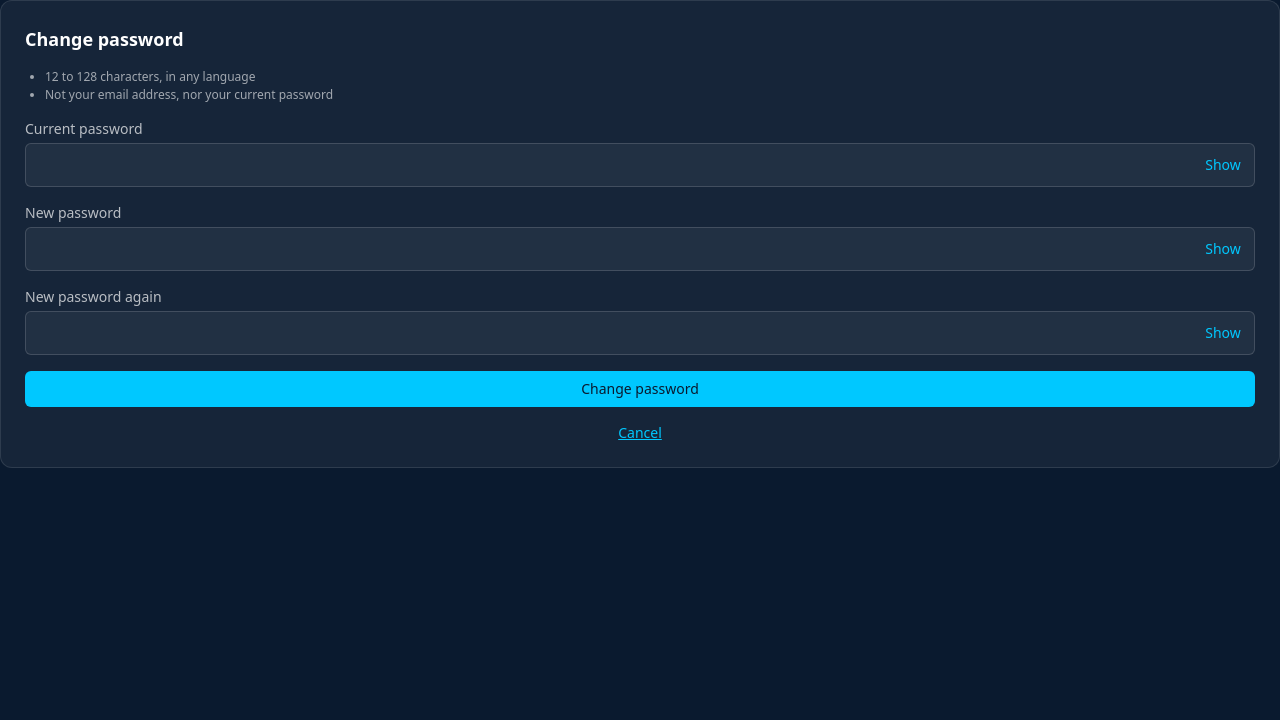
Test case: ChangePasswordForm › lists every rule the new password breaks
Expected: the list named "Password rules" is shown, [45,68,333,103]
Type "Sup3rSecret!" into the password field labelled "Current password" at [640, 165], box [25,143,1255,187]
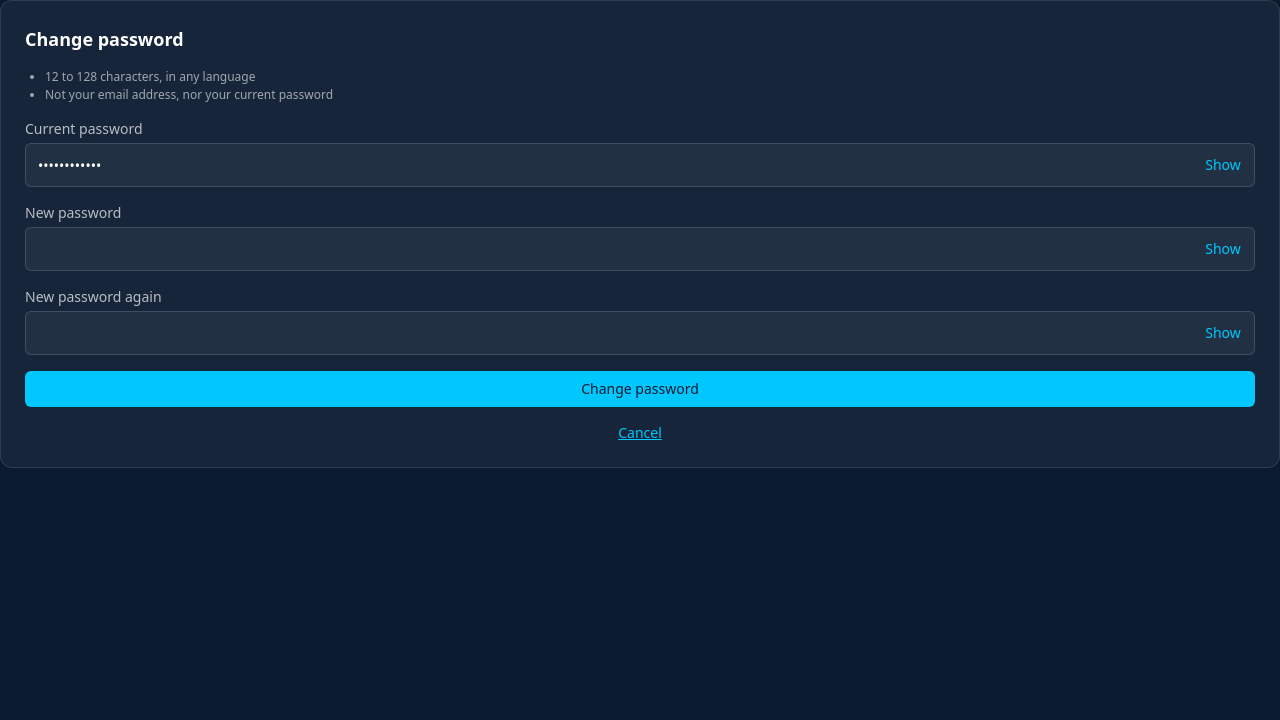
Type "short" into the password field labelled "New password" at [640, 249], box [25,227,1255,271]
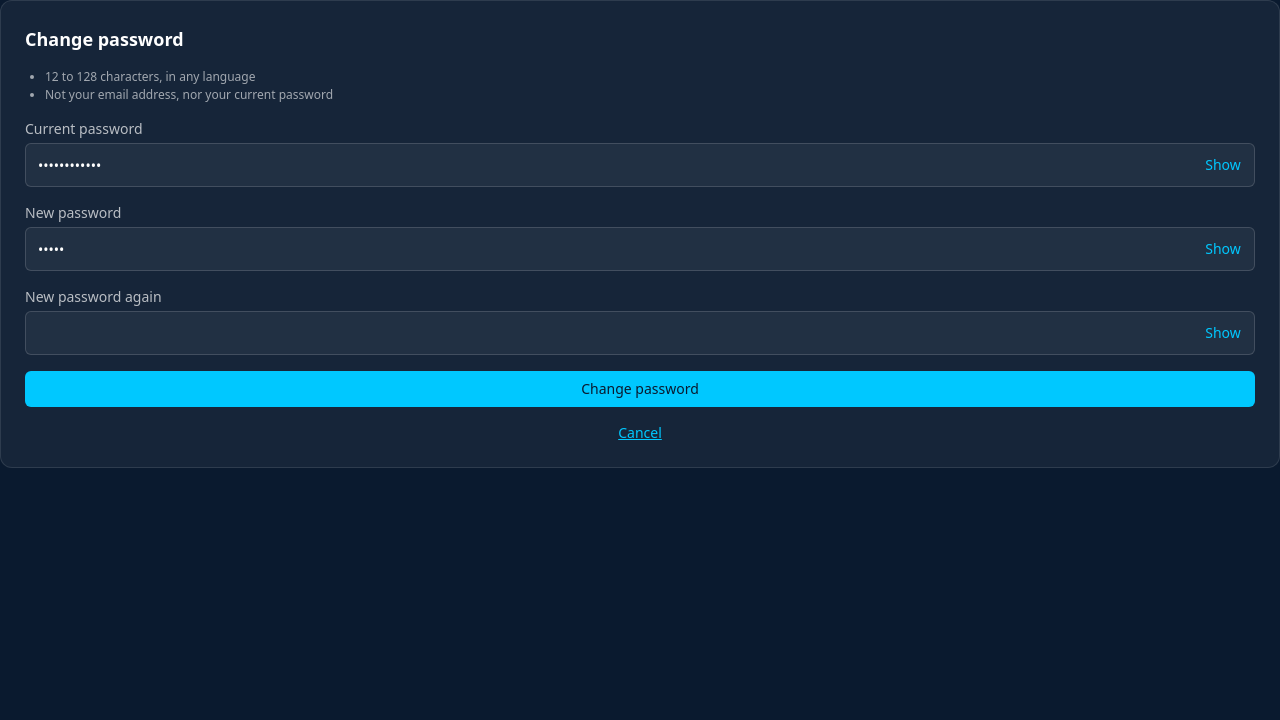
Type "short" into the password field labelled "New password again" at [640, 333], box [25,311,1255,355]
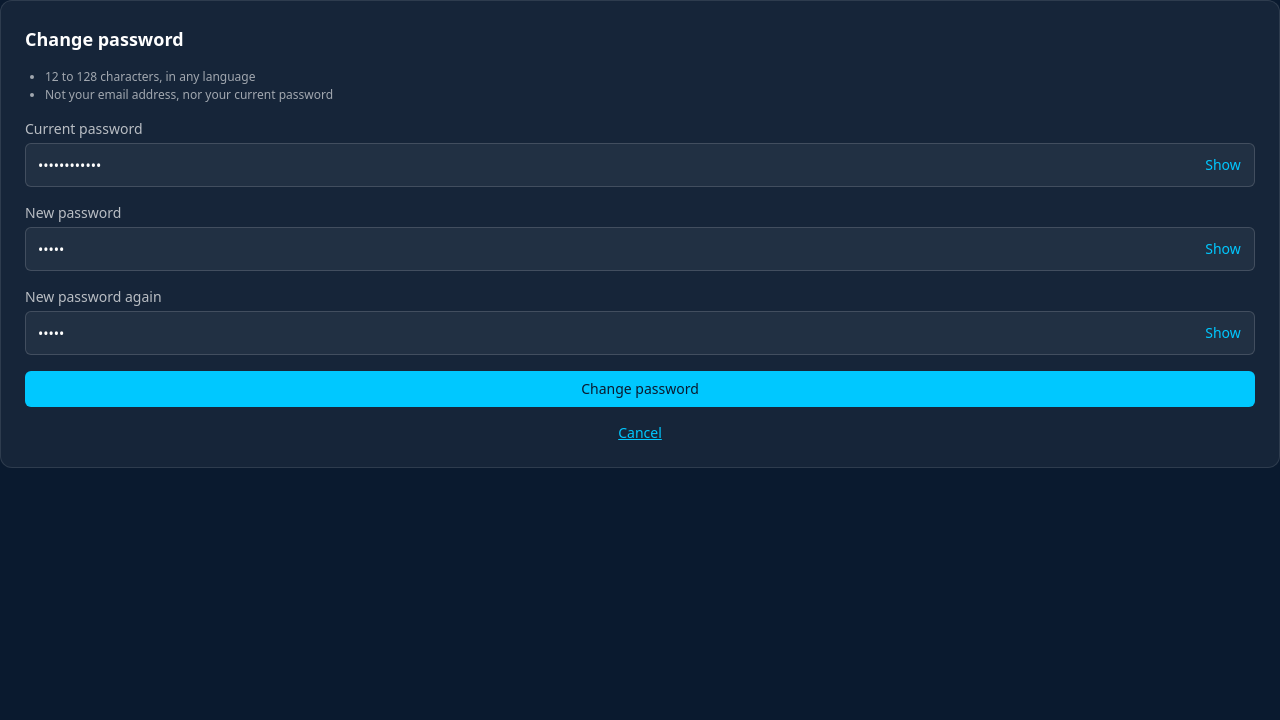
Click the button "Change password" at [640, 389], box [25,371,1255,407]
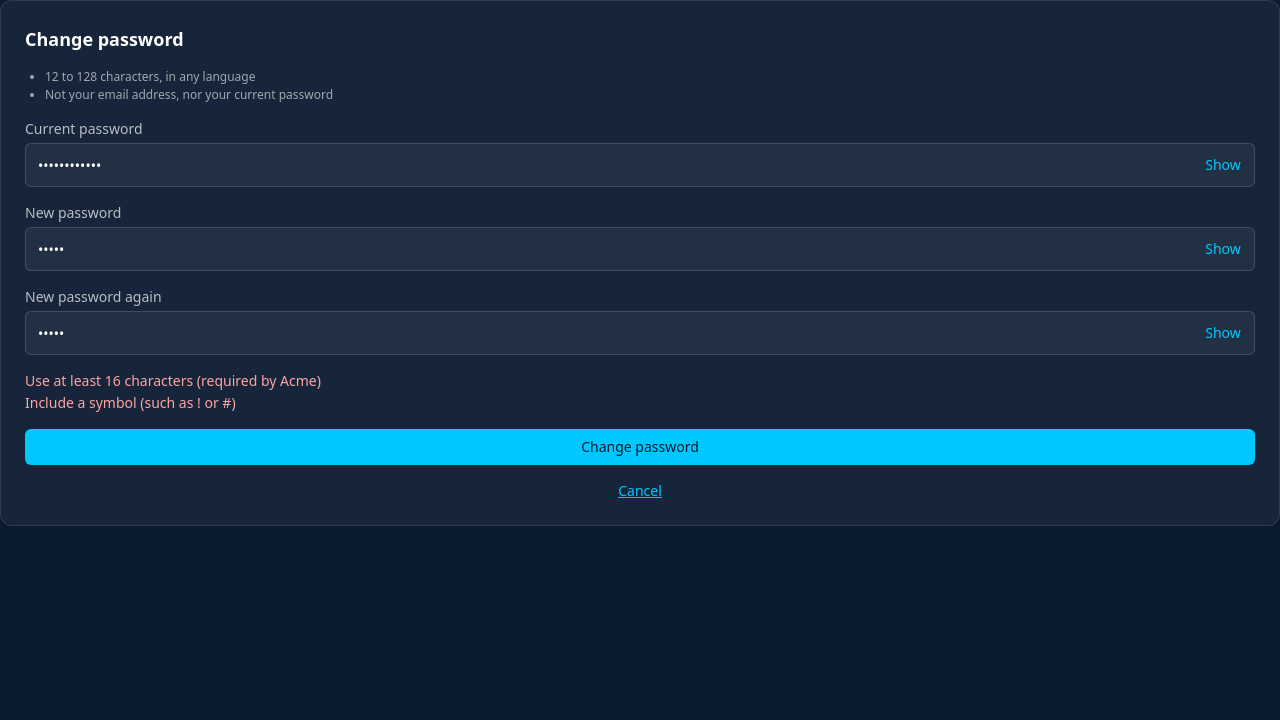
Now the message shows "Use at least 16 characters (required by Acme)", box [25,371,321,390]
Now the message shows "Include a symbol", box [25,393,236,412]
